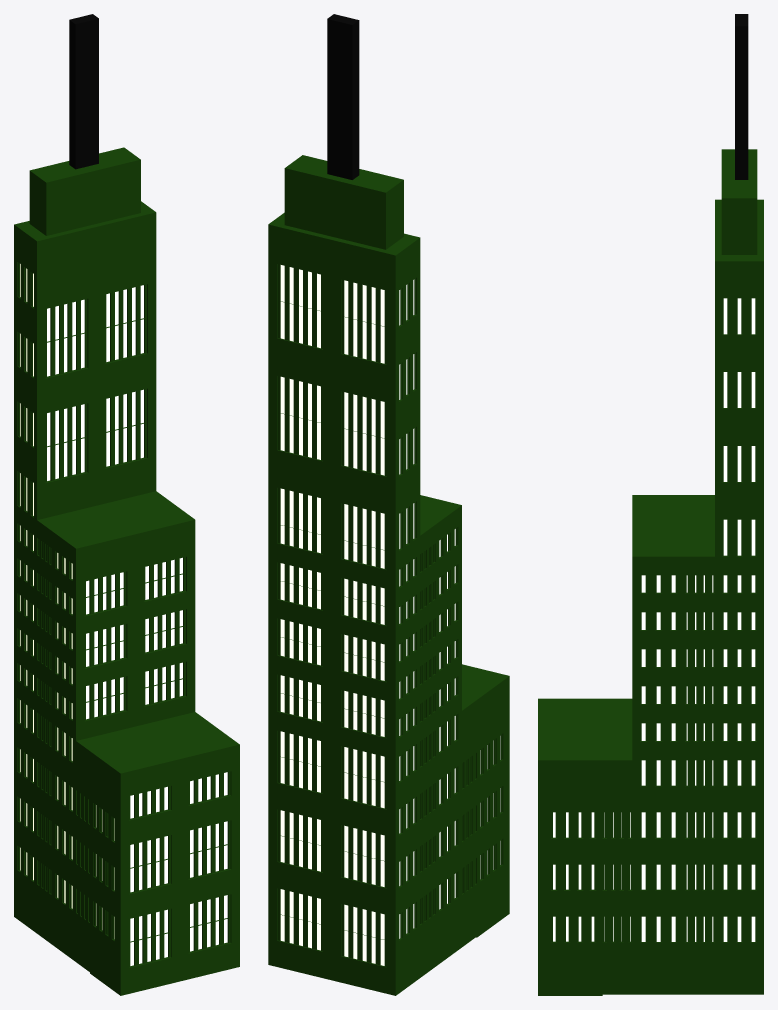
The model's file is 54_yazz_boulevard.fbx.
3 renders of one model, left to right at view 1: azimuth 30°, elevation 25°; view 2: azimuth 150°, elevation 25°; view 3: azimuth 270°, elevation 25°, orthographic. The views are drawn at different scales.
Parts seen in each view (by area): view 1: Cube; view 2: Cube; view 3: Cube.
Part boxes in pixels (<box>): Cube: <box>14,14,239,995</box>; Cube: <box>268,14,509,995</box>; Cube: <box>538,14,763,995</box>.
Size of the model in its own units: 226 by 1612 by 349.
